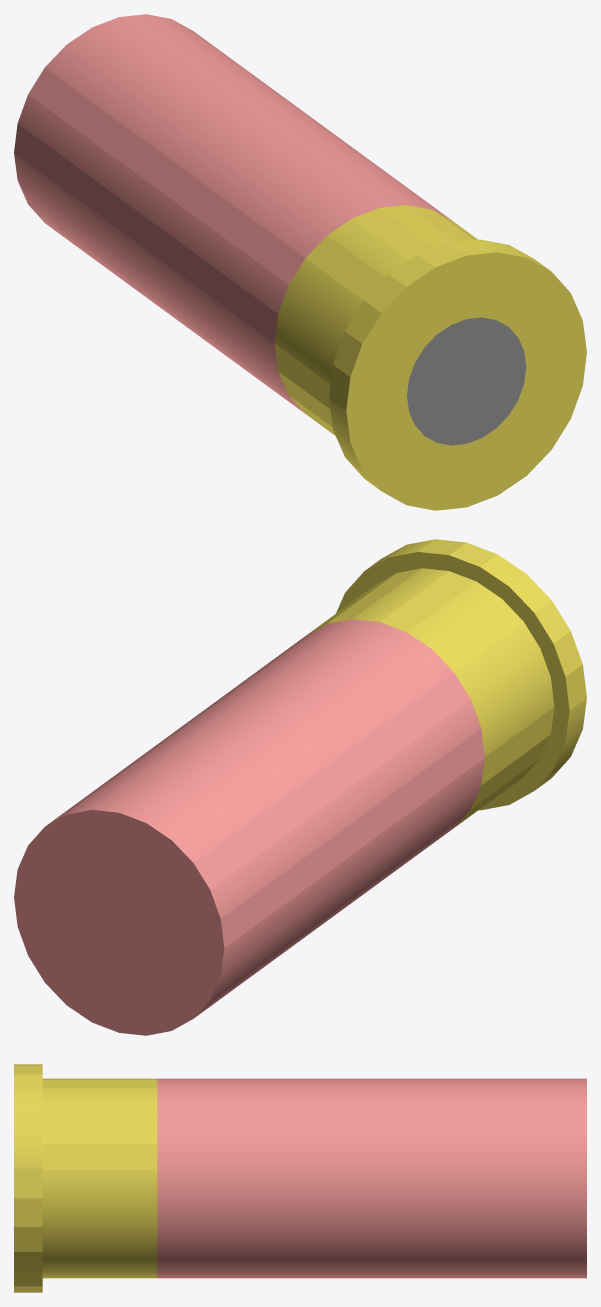
The model's file is ammo_shotgun.fbx.
3 renders of one model, top to bottom at view 1: azimuth 30°, elevation 25°; view 2: azimuth 150°, elevation 25°; view 3: azimuth 270°, elevation 25°, orthographic. The views are drawn at different scales.
Visible parts, largest first — view 1: imagetostl_mesh61, imagetostl_mesh124, imagetostl_mesh25, imagetostl_mesh0, imagetostl_mesh26, imagetostl_mesh52, imagetostl_mesh27, imagetostl_mesh51, imagetostl_mesh92, imagetostl_mesh54, imagetostl_mesh119, imagetostl_mesh50 (+30 smaller); view 2: imagetostl_mesh53, imagetostl_mesh124, imagetostl_mesh25, imagetostl_mesh0, imagetostl_mesh26, imagetostl_mesh52, imagetostl_mesh27, imagetostl_mesh51, imagetostl_mesh54, imagetostl_mesh119, imagetostl_mesh50, imagetostl_mesh23 (+17 smaller); view 3: imagetostl_mesh119, imagetostl_mesh117, imagetostl_mesh118, imagetostl_mesh116, imagetostl_mesh102, imagetostl_mesh101, imagetostl_mesh54, imagetostl_mesh115, imagetostl_mesh114, imagetostl_mesh87, imagetostl_mesh27, imagetostl_mesh86 (+17 smaller).
Boxes of the visible parts, x1,y1,x2,y2 form: imagetostl_mesh61: (407,317,526,445); imagetostl_mesh124: (28,68,305,284); imagetostl_mesh25: (45,45,326,257); imagetostl_mesh0: (17,94,288,313); imagetostl_mesh26: (67,27,352,235); imagetostl_mesh52: (14,124,277,343); imagetostl_mesh27: (92,17,379,217); imagetostl_mesh51: (14,153,277,370); imagetostl_mesh92: (482,252,551,475); imagetostl_mesh54: (119,14,406,207); imagetostl_mesh119: (147,14,452,220); imagetostl_mesh50: (18,181,288,394); imagetostl_mesh53: (14,810,224,1035); imagetostl_mesh124: (193,672,470,889); imagetostl_mesh25: (172,649,453,862); imagetostl_mesh0: (210,699,481,918); imagetostl_mesh26: (146,632,431,839); imagetostl_mesh52: (221,729,484,947); imagetostl_mesh27: (119,622,406,822); imagetostl_mesh51: (221,758,484,975); imagetostl_mesh54: (92,619,379,812); imagetostl_mesh119: (46,619,351,825); imagetostl_mesh50: (210,786,480,999); imagetostl_mesh23: (454,621,540,698); imagetostl_mesh119: (157,1101,586,1144); imagetostl_mesh117: (157,1169,586,1195); imagetostl_mesh118: (157,1144,586,1169); imagetostl_mesh116: (157,1196,586,1220); imagetostl_mesh102: (157,1220,586,1242); imagetostl_mesh101: (157,1243,586,1260); imagetostl_mesh54: (157,1087,586,1101); imagetostl_mesh115: (42,1169,157,1220); imagetostl_mesh114: (42,1121,157,1169); imagetostl_mesh87: (157,1260,586,1272); imagetostl_mesh27: (157,1080,586,1087); imagetostl_mesh86: (157,1272,586,1278).
Bounding box in the file's own units: 0.48 × 0.48 × 1.2.
